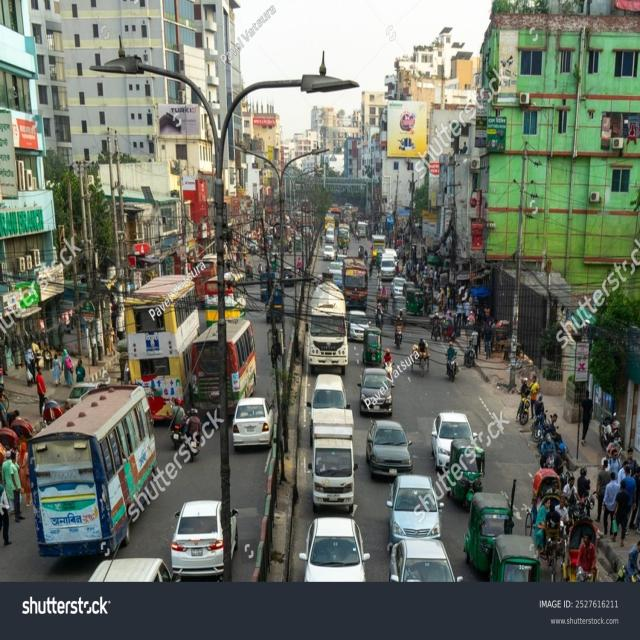car: (312, 516, 373, 595), (170, 492, 231, 570), (386, 473, 448, 541), (311, 436, 360, 515), (229, 391, 277, 451), (432, 406, 474, 461), (366, 420, 408, 470), (361, 362, 394, 413), (311, 367, 345, 410), (344, 305, 371, 342)
